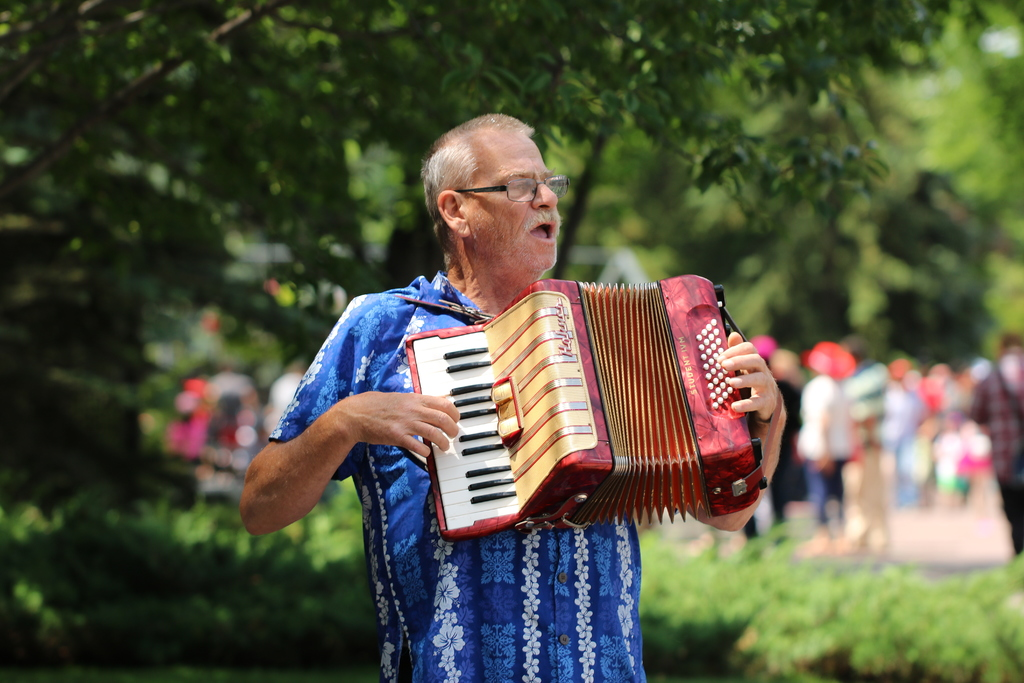Person: (235, 109, 789, 682), (167, 329, 1024, 554)
